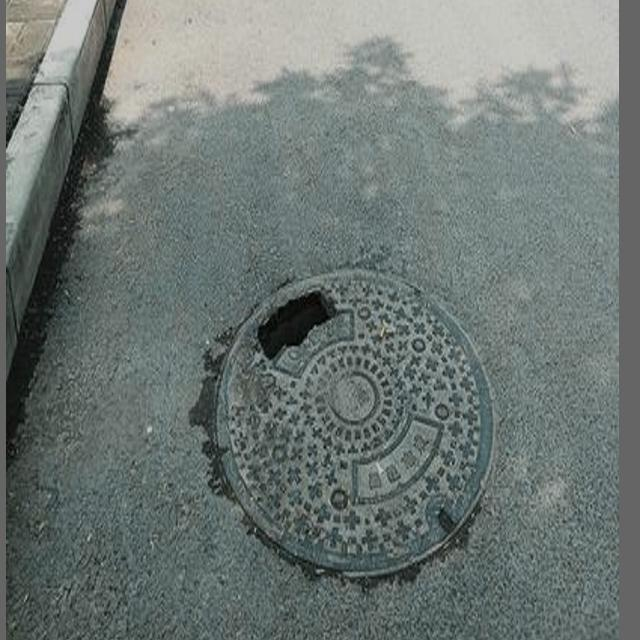good: (185, 231, 534, 581)
